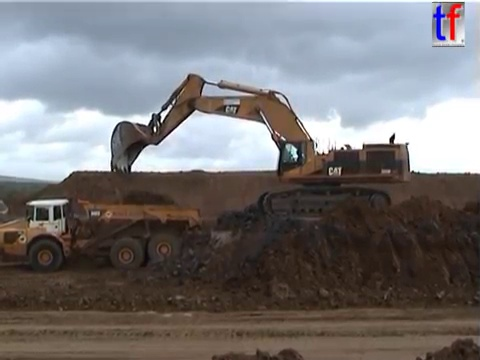excavator: (107, 71, 413, 222)
truck: (1, 196, 204, 274)
